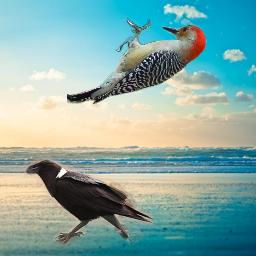Crow: (24, 157, 153, 247)
Woodpecker: (67, 18, 209, 106)
